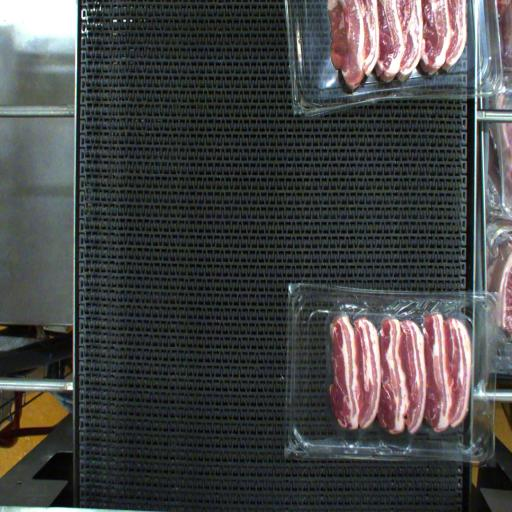unsealed: (303, 303, 489, 440)
